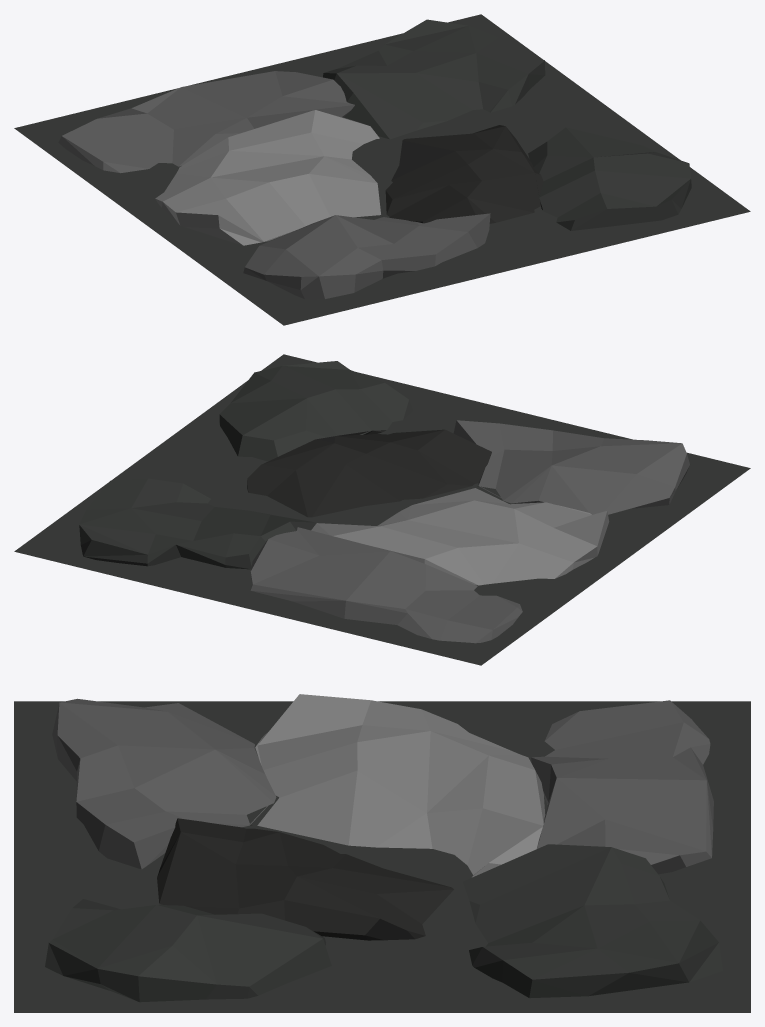
File: ground2.fbx
3 views of the same model, one above another, from view 1: azimuth 30°, elevation 25°; view 2: azimuth 150°, elevation 25°; view 3: azimuth 270°, elevation 25° (orthographic). The views are drawn at different scales.
Parts seen in each view (by area): view 1: ground2_LOD0; view 2: ground2_LOD0; view 3: ground2_LOD0.
Part boxes in pixels (<box>): ground2_LOD0: <box>14,14,750,325</box>; ground2_LOD0: <box>14,354,750,665</box>; ground2_LOD0: <box>14,694,750,1012</box>.
Size of what is drawn, in the model's own units: 8 by 0.948 by 8.
